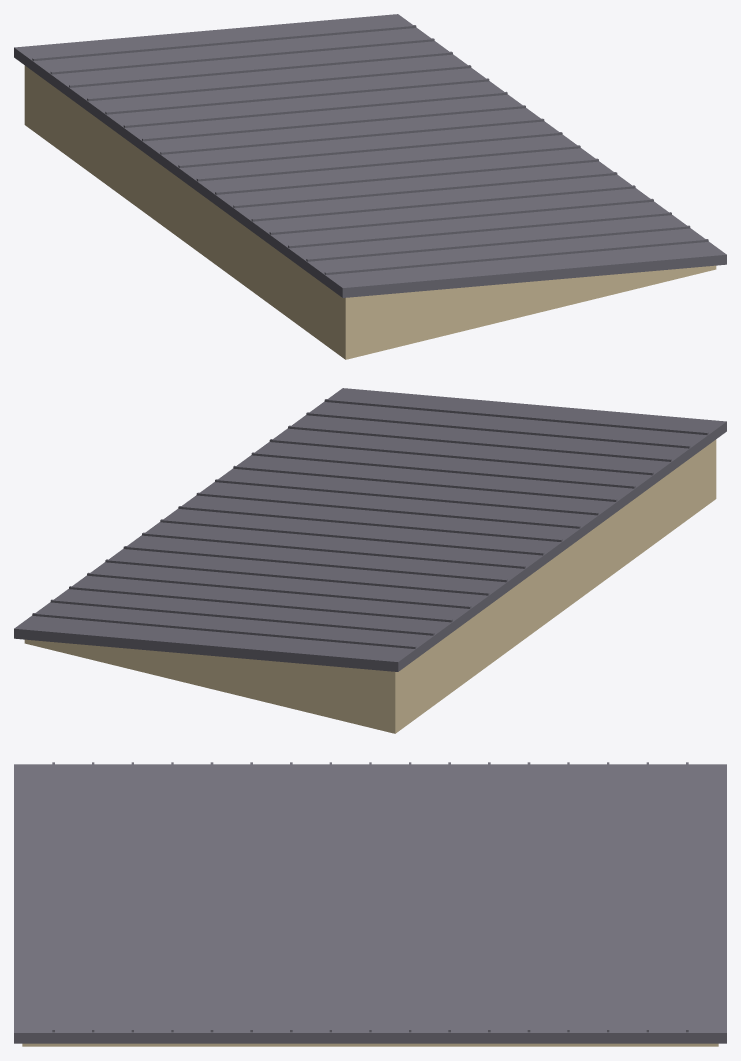
File: SM_Roof_NarrowShedRight_Yellow_546_01.gltf
3 renders of one model, top to bottom at view 1: azimuth 30°, elevation 25°; view 2: azimuth 150°, elevation 25°; view 3: azimuth 270°, elevation 25°, orthographic. The views are drawn at different scales.
Visible parts, largest first — view 1: SM_Roof_NarrowShedRight_Yellow_546_01; view 2: SM_Roof_NarrowShedRight_Yellow_546_01; view 3: SM_Roof_NarrowShedRight_Yellow_546_01.
Boxes of the visible parts, bbox=[...] form: SM_Roof_NarrowShedRight_Yellow_546_01: bbox=[14, 14, 726, 359]; SM_Roof_NarrowShedRight_Yellow_546_01: bbox=[14, 388, 726, 733]; SM_Roof_NarrowShedRight_Yellow_546_01: bbox=[14, 762, 726, 1046].
Size of the model in its own units: 5.66 by 1.1 by 8.39.
1 material, 1 textured.
